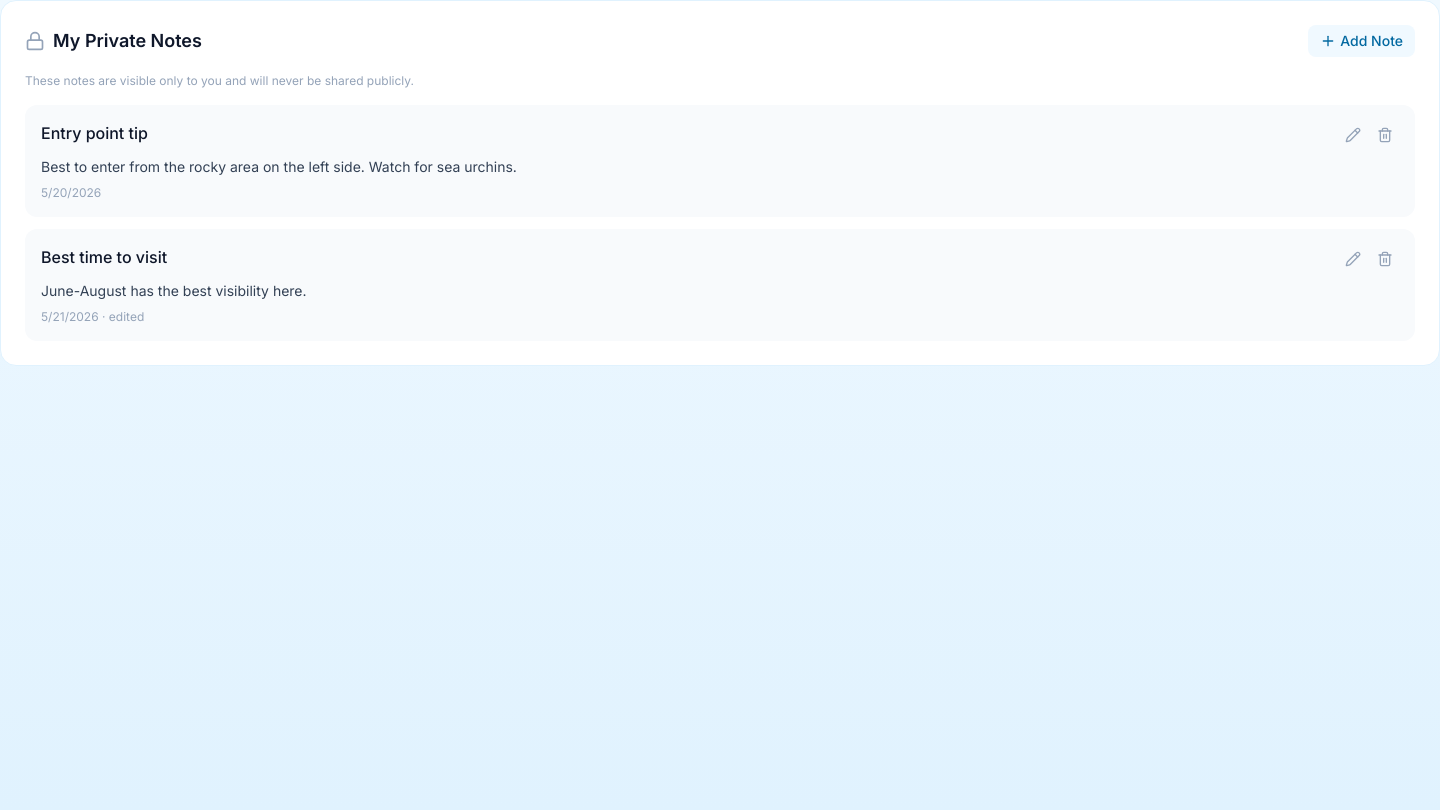
PrivateNotesSection › opens create form when Add Note is clicked
Click the button "Add Note".
click(1362, 41)  # box [1308, 25, 1415, 57]
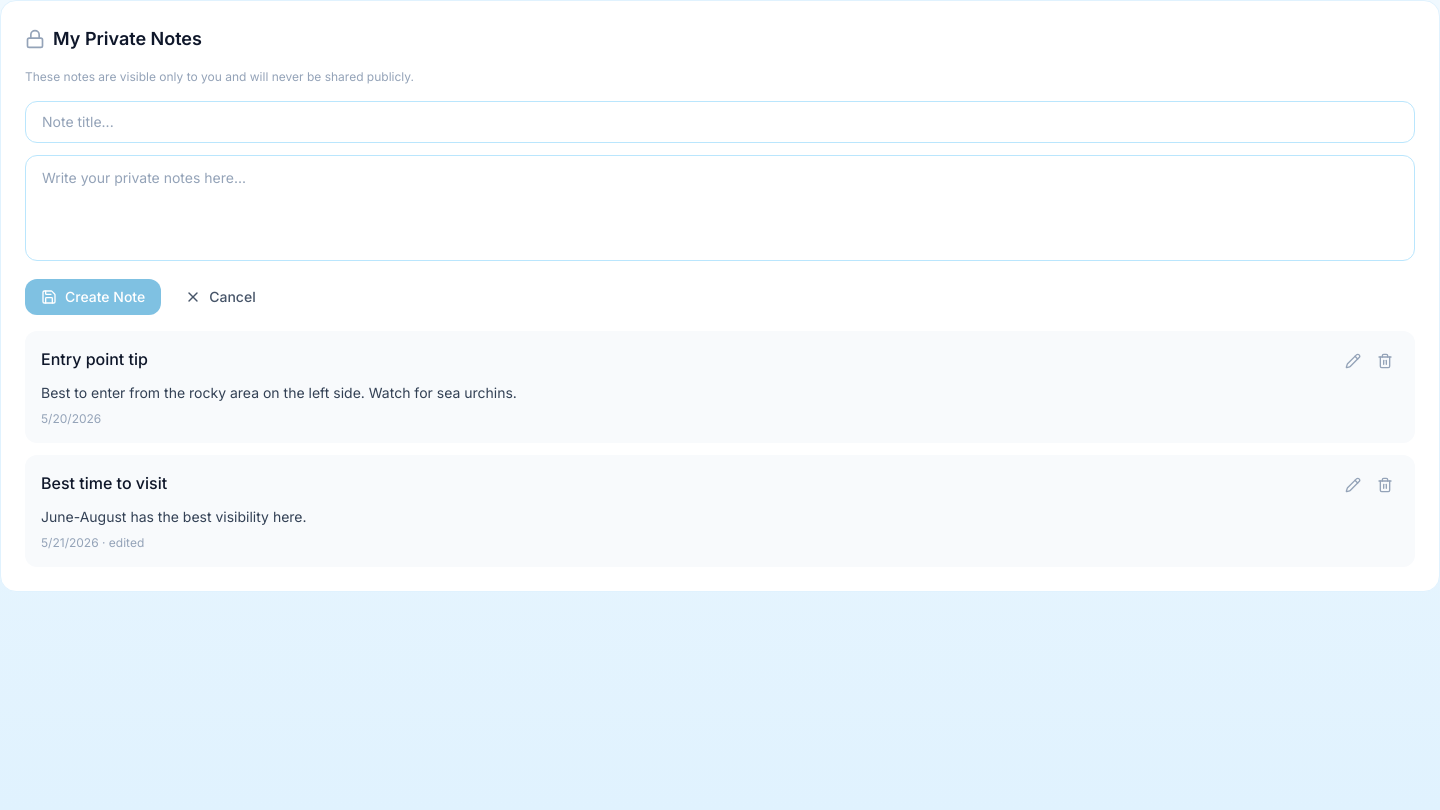
Expected: the field with placeholder "Note title..." is shown, [25, 101, 1415, 143]
Expected: the text box with placeholder "Write your private notes here..." is shown, [25, 155, 1415, 261]
Expected: the button "Create Note" is shown, [25, 279, 161, 315]
